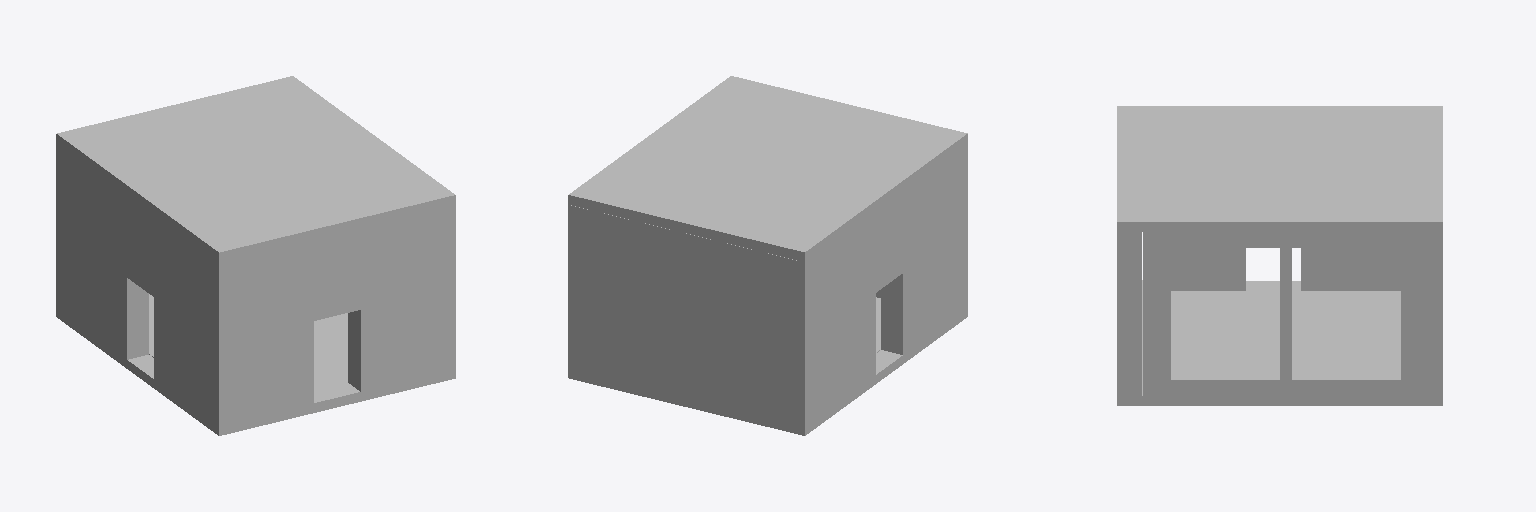
The model's file is billard_room.obj.
3 views of the same model, side by side, from view 1: azimuth 30°, elevation 25°; view 2: azimuth 150°, elevation 25°; view 3: azimuth 270°, elevation 25° (orthographic).
Parts seen in each view (by area): view 1: Room; view 2: Room; view 3: Room.
Boxes of the visible parts, box(x1,y1,x2,y2) form: Room: box(56, 76, 455, 435); Room: box(568, 76, 967, 435); Room: box(1117, 106, 1442, 405).
Bounding box in the file's own units: 754 × 559 × 899.